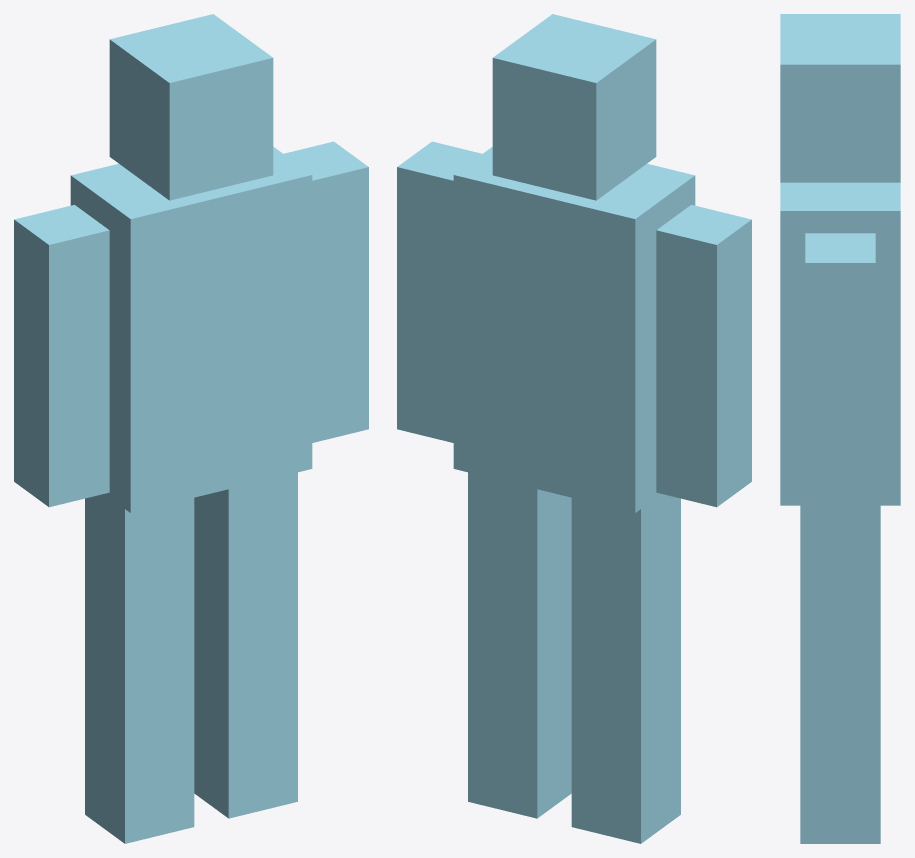
File: frost_atronach.glb
3 views of the same model, side by side, from view 1: azimuth 30°, elevation 25°; view 2: azimuth 150°, elevation 25°; view 3: azimuth 270°, elevation 25° (orthographic).
Visible parts, largest first — view 1: frost_atronach; view 2: frost_atronach; view 3: frost_atronach.
Part boxes in pixels (x1,y1,x2,y2): frost_atronach: (14,14,368,843); frost_atronach: (397,14,751,843); frost_atronach: (780,14,900,843).
Bounding box in the file's own units: 1.15 × 2.6 × 0.372.
